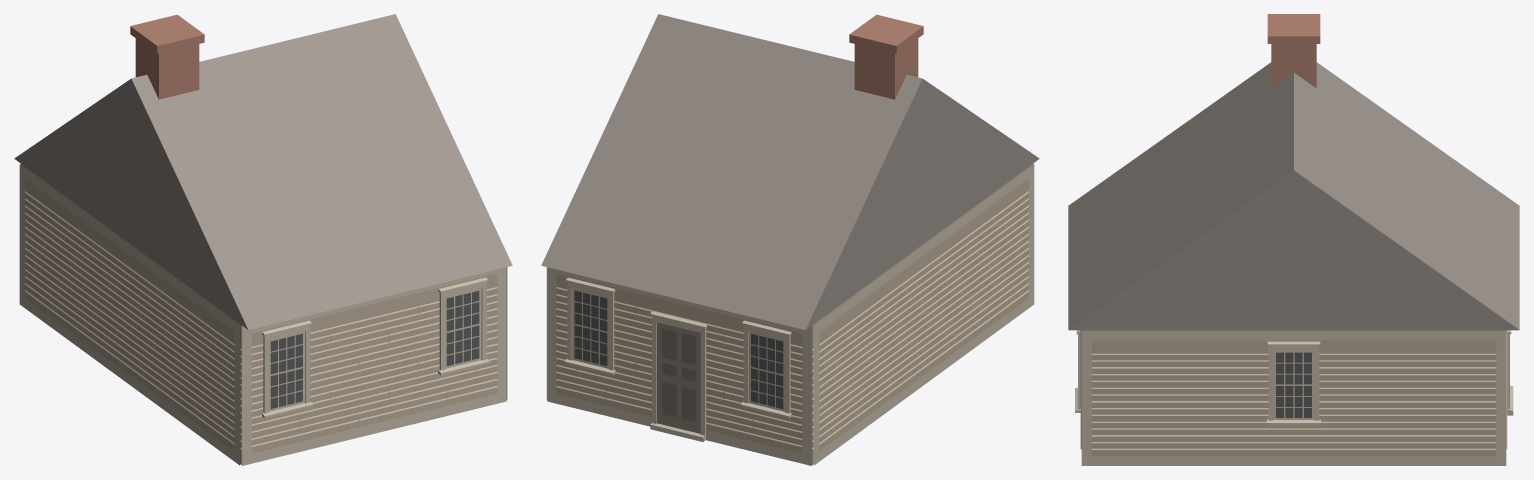
Rendered from wright_building_to_let_b__documented_1835.glb.
3 views of the same model, side by side, from view 1: azimuth 30°, elevation 25°; view 2: azimuth 150°, elevation 25°; view 3: azimuth 270°, elevation 25° (orthographic). The views are drawn at different scales.
Visible parts, largest first — view 1: wright_building_to_let_b__documented_1835; view 2: wright_building_to_let_b__documented_1835; view 3: wright_building_to_let_b__documented_1835.
Boxes of the visible parts, left/top/right/bottom form: wright_building_to_let_b__documented_1835: left=14, top=14, right=512, bottom=465; wright_building_to_let_b__documented_1835: left=541, top=14, right=1039, bottom=465; wright_building_to_let_b__documented_1835: left=1068, top=14, right=1519, bottom=465.
Bounding box in the file's own units: 5.64 × 6.85 × 8.43.
